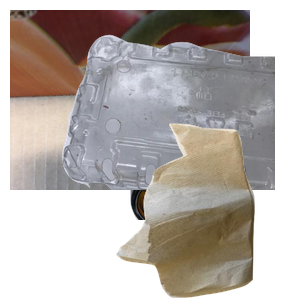cardboard: (10, 10, 250, 190)
glass: (115, 120, 300, 300)
plastic: (60, 32, 300, 212)
trash: (114, 121, 300, 300)
